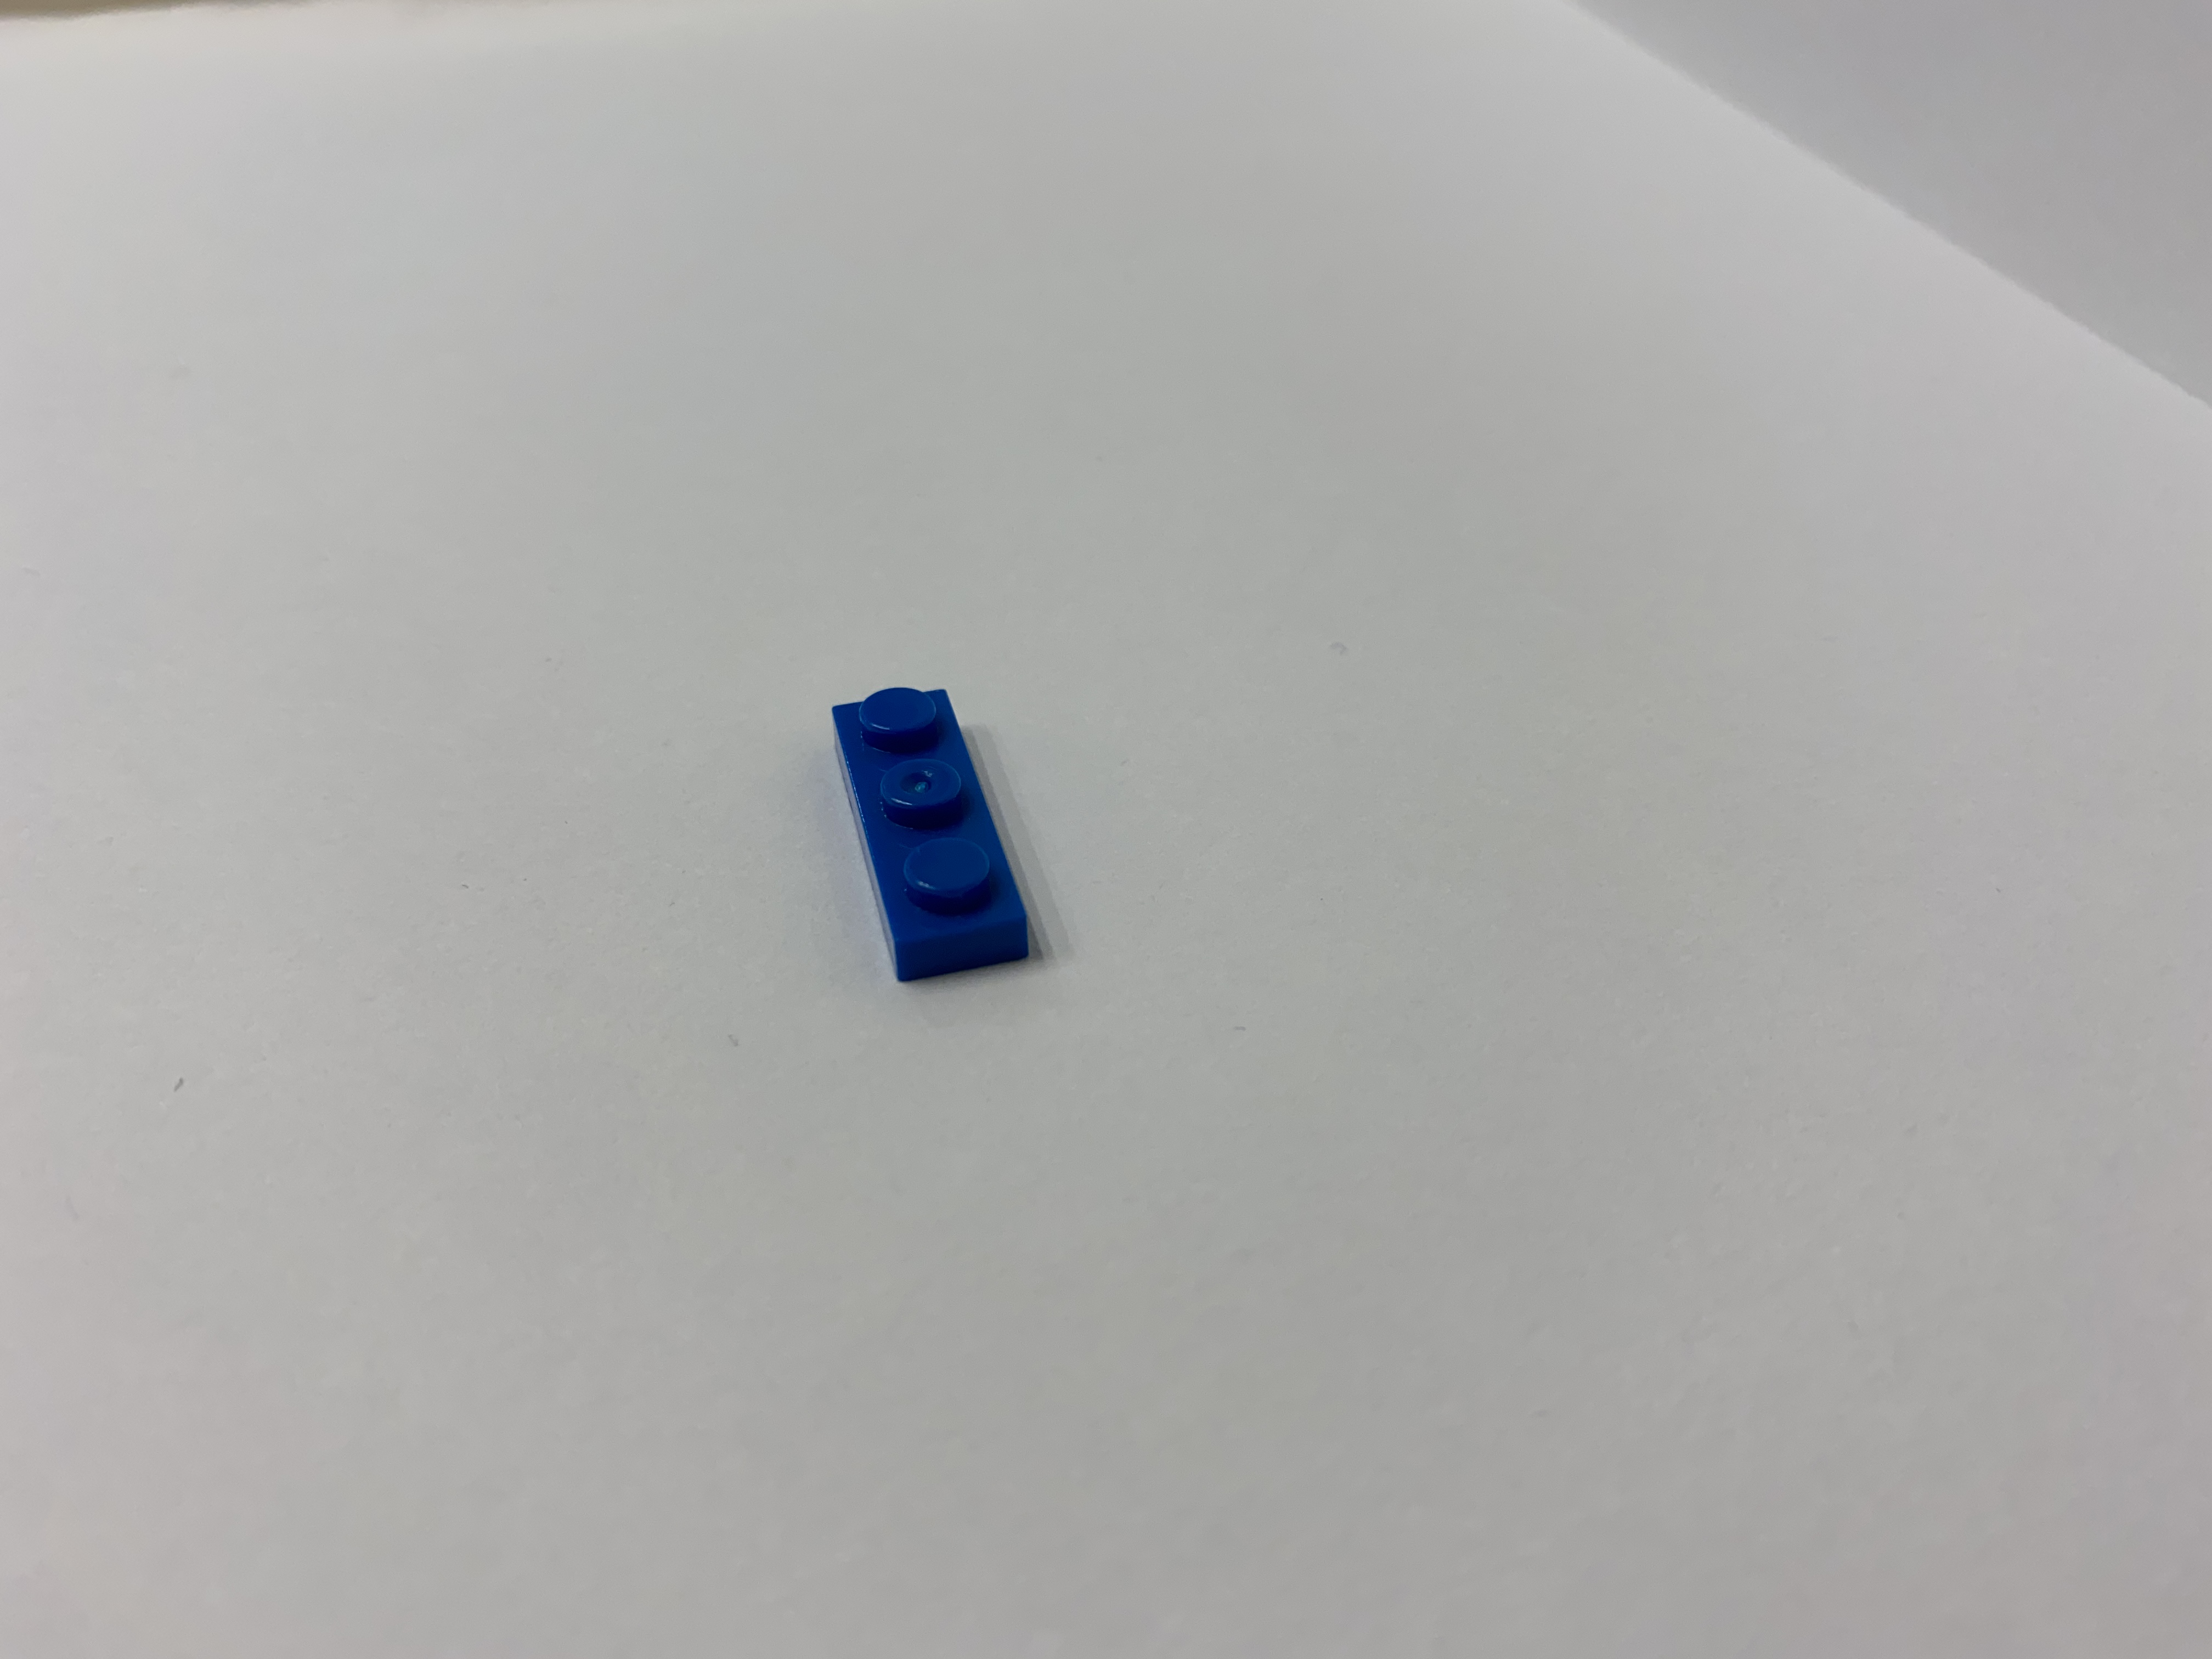car: (791, 657, 1059, 1002)
